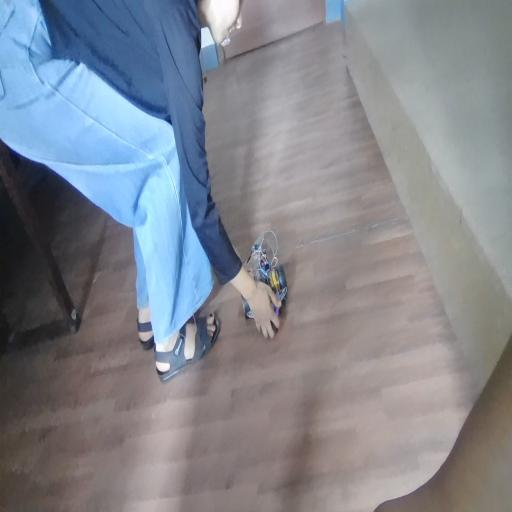car: (250, 237, 292, 293)
